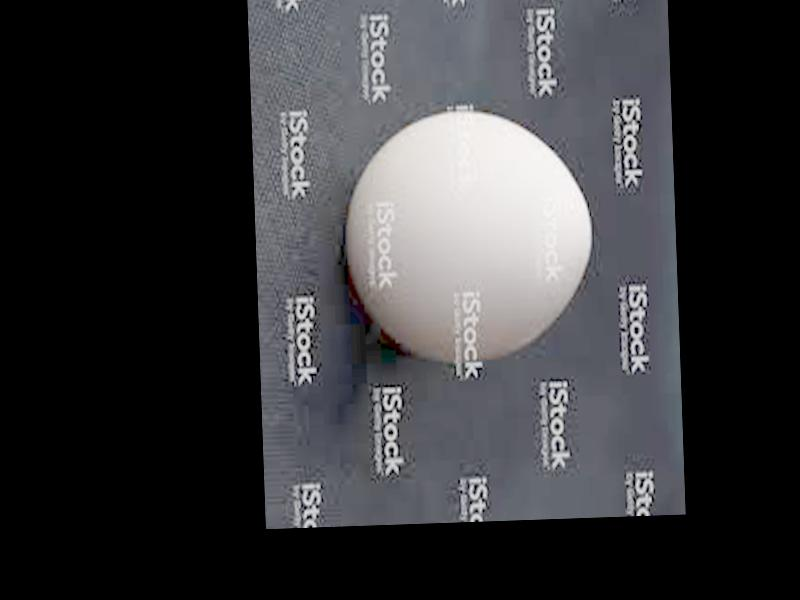Eggs: (340, 107, 595, 367)
